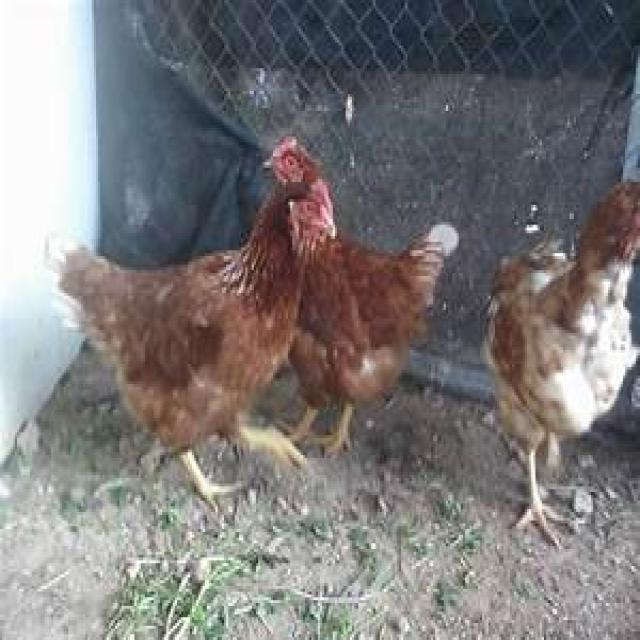hen: (61, 187, 330, 501), (485, 183, 640, 542), (290, 233, 444, 444), (272, 137, 326, 193)
